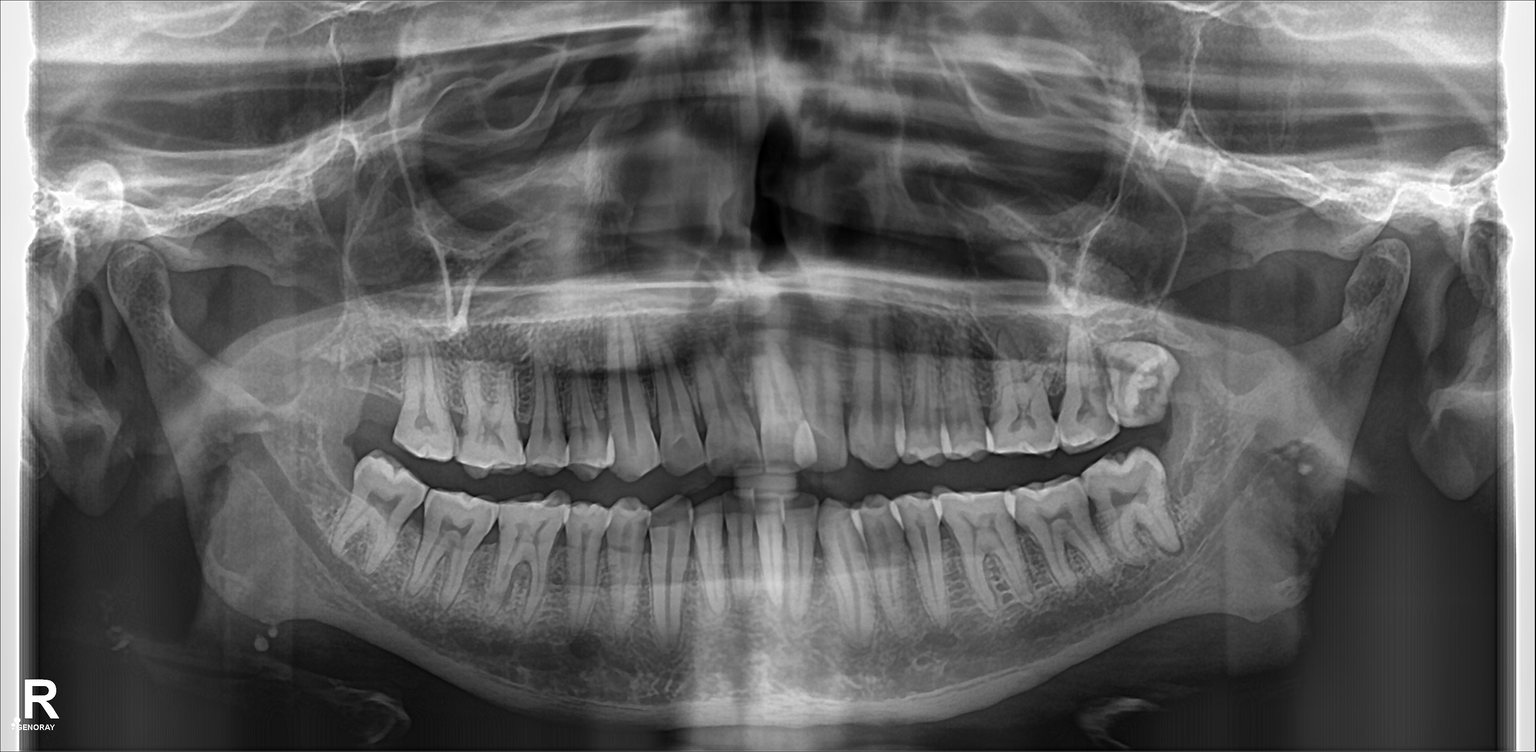Missing Tooth: (337, 352, 405, 450)
